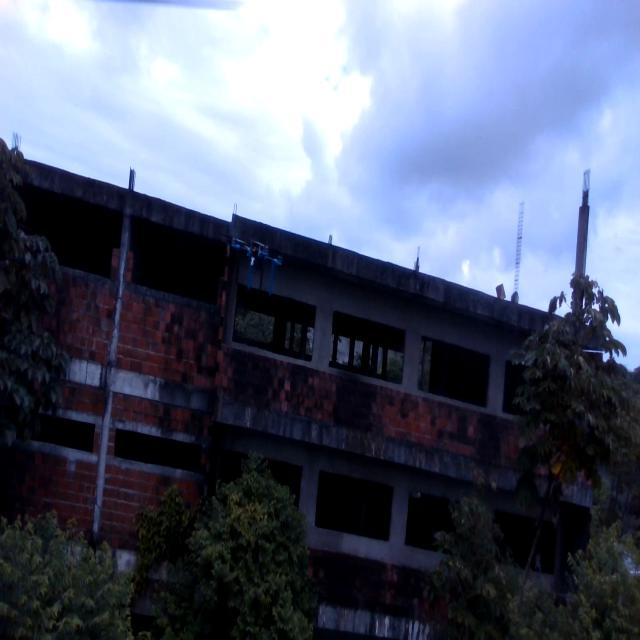-uav-: (222, 215, 292, 305)
